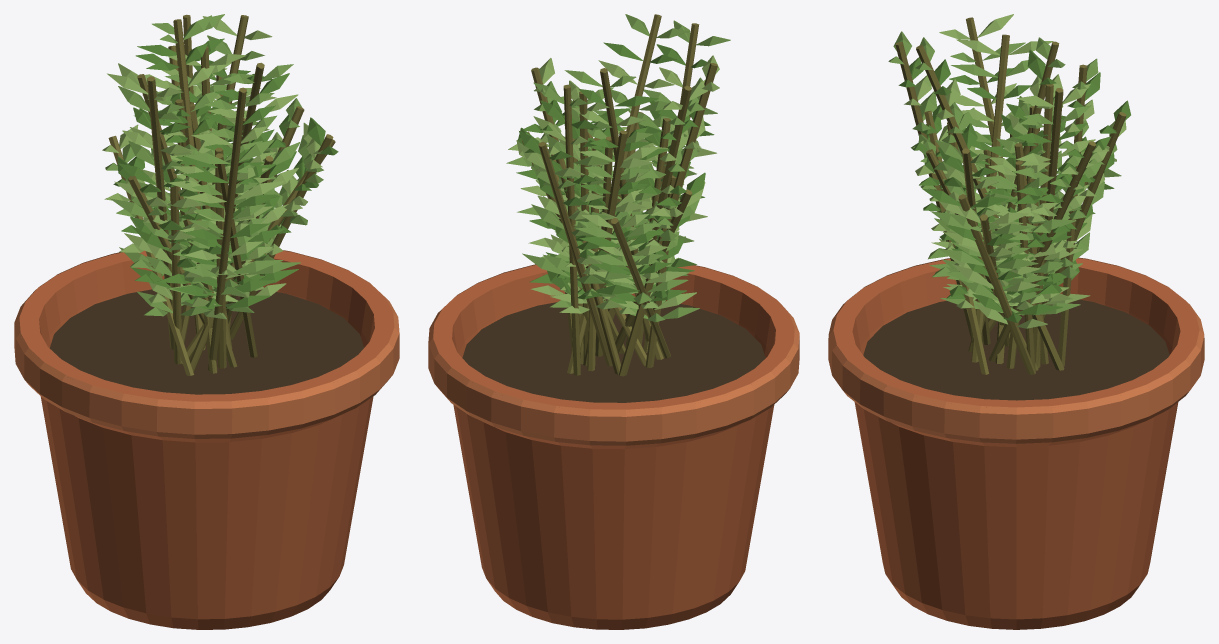
The model's file is terracotta_rosemary_pot.glb.
The picture shows the model from 3 angles, left to right: view 1: azimuth 30°, elevation 25°; view 2: azimuth 150°, elevation 25°; view 3: azimuth 270°, elevation 25°; orthographic projection. The views are drawn at different scales.
Parts seen in each view (by area): view 1: Terracotta_Rosemary_Pot; view 2: Terracotta_Rosemary_Pot; view 3: Terracotta_Rosemary_Pot.
Boxes of the visible parts, left/top/right/bottom form: Terracotta_Rosemary_Pot: left=14, top=14, right=399, bottom=629; Terracotta_Rosemary_Pot: left=428, top=14, right=799, bottom=629; Terracotta_Rosemary_Pot: left=828, top=14, right=1204, bottom=629.
Size of the model in its own units: 0.8152 by 1.28 by 0.8152.
